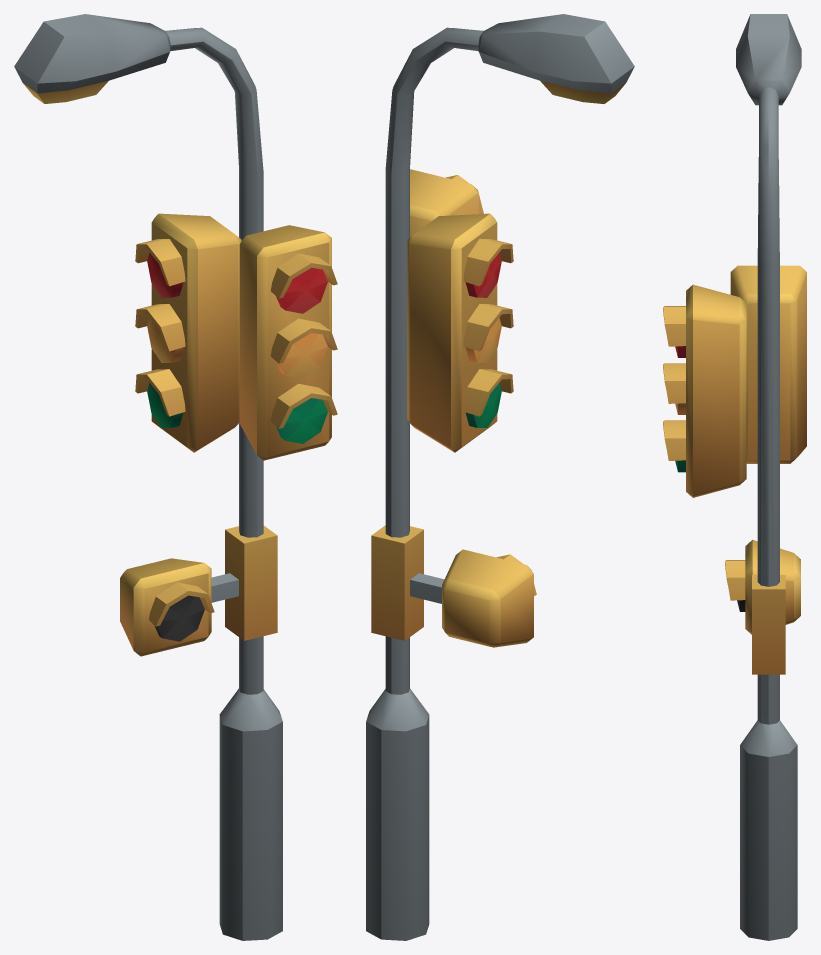
Rendered from trafficlight_b.glb.
3 views of the same model, side by side, from view 1: azimuth 30°, elevation 25°; view 2: azimuth 150°, elevation 25°; view 3: azimuth 270°, elevation 25° (orthographic). The views are drawn at different scales.
Parts seen in each view (by area): view 1: trafficlight_B; view 2: trafficlight_B; view 3: trafficlight_B.
Boxes of the visible parts, x1,y1,x2,y2 form: trafficlight_B: (14,14,337,940); trafficlight_B: (366,14,634,940); trafficlight_B: (663,14,806,940).
Size of the model in its own units: 0.2791 by 0.9599 by 0.1506.
Materials: 1 (1 with a texture image).
